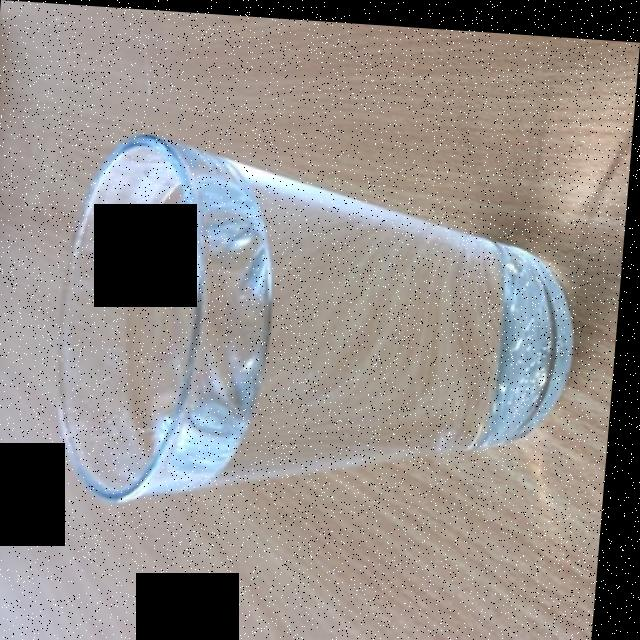water: (130, 186, 196, 451)
